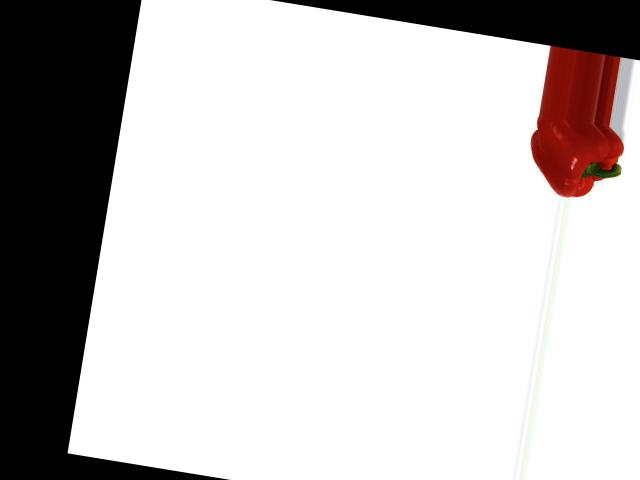bell_pepper: (512, 112, 640, 207)
